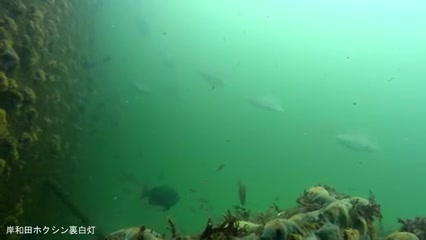smallfish: (332, 126, 385, 151)
